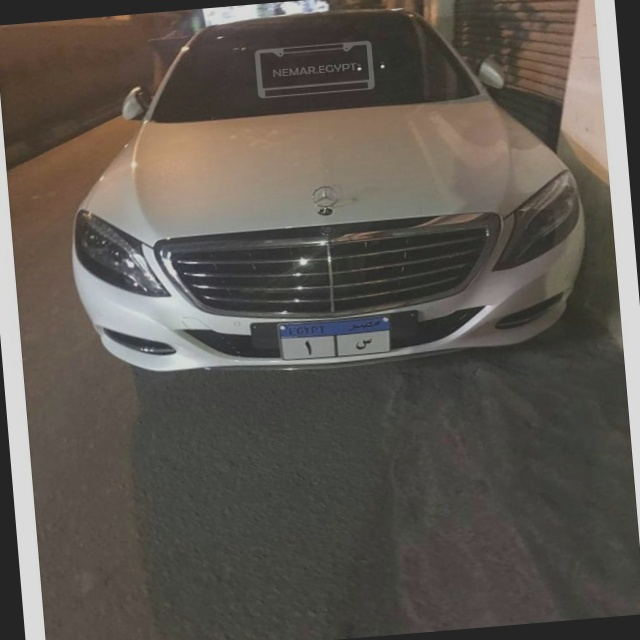License Plate: (274, 311, 397, 365)
